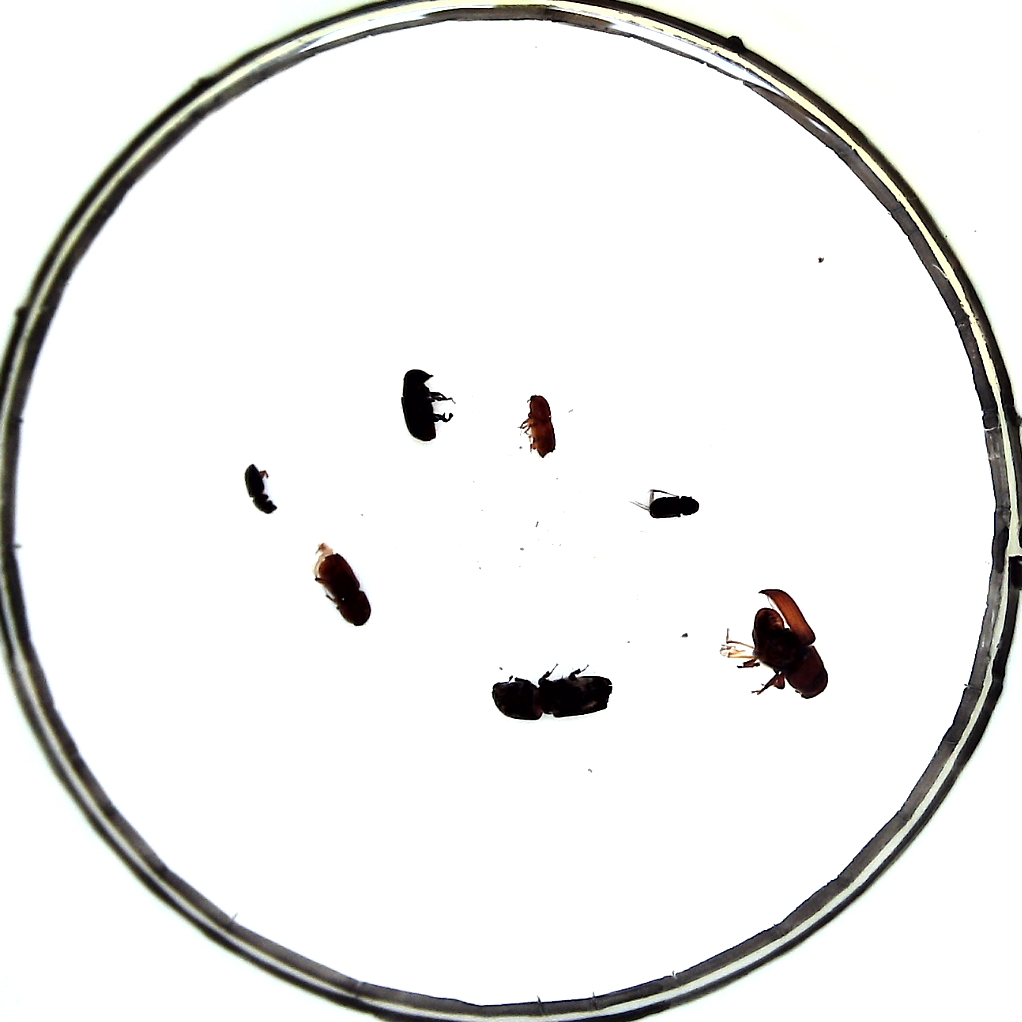Boerner: (487, 675, 615, 722)
Leconte: (739, 587, 830, 702)
Linnaeus: (316, 547, 372, 629)
acuminatus: (519, 395, 558, 459)
armandi: (399, 369, 446, 441)
coleoptera: (245, 462, 275, 516), (645, 493, 696, 520)
